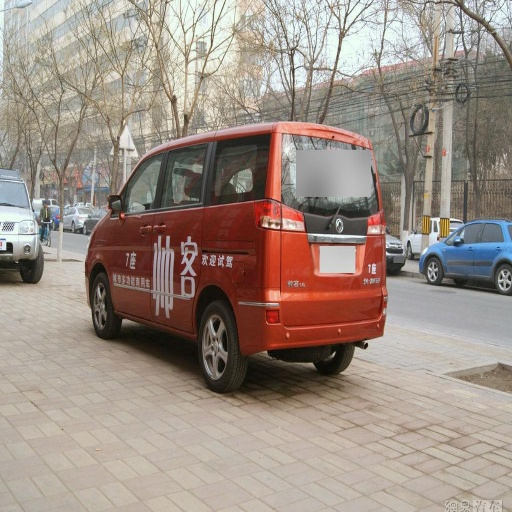back_bumper: (246, 277, 387, 349)
back_left_door: (205, 139, 243, 206)
trunk: (178, 200, 384, 339)
